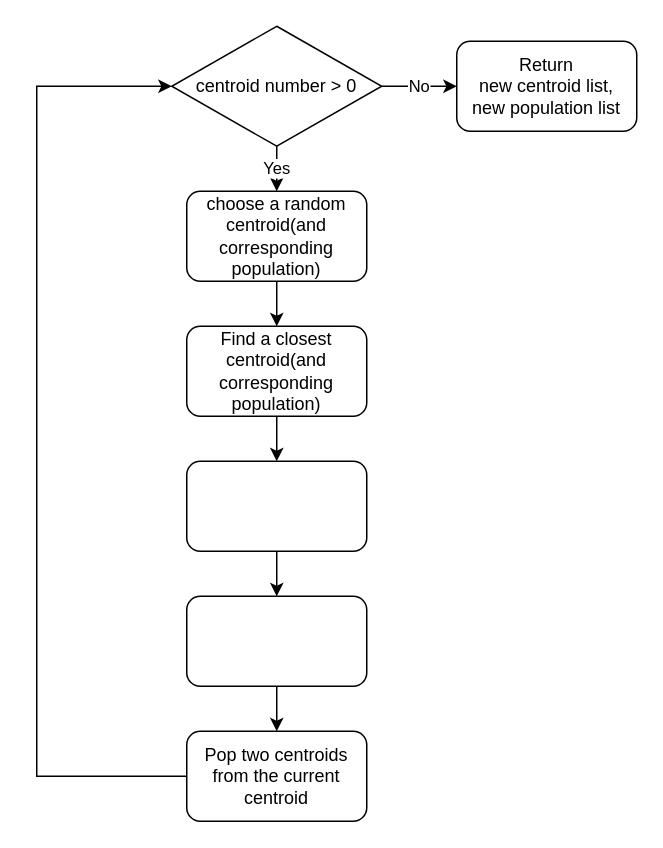
The diagram is 663 pixels wide and 848 high, and some of its shapes have lost their labels. The centre of each missing label's shape, as x and y in pixels:
Merge two centroids and add to new centroid list: the point at 276,640
Merge two population and add to new popululation list: the point at 276,505
